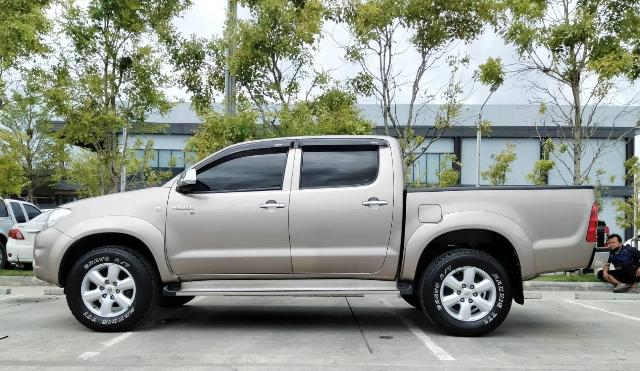pickup-truck: (24, 126, 612, 339)
